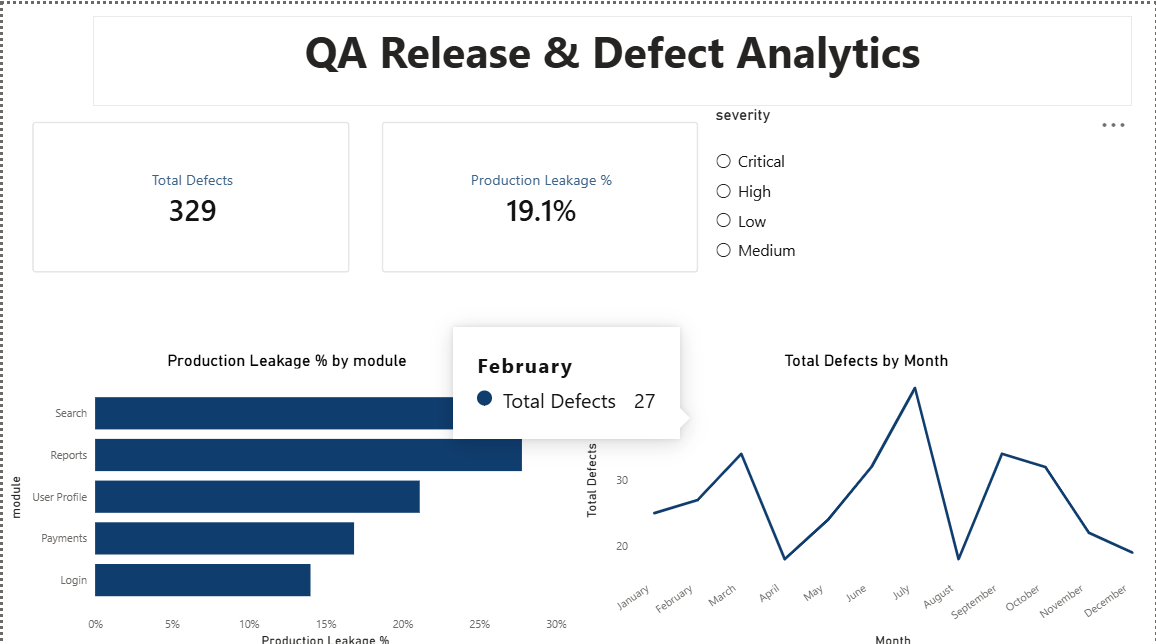

This screenshot's page, from the dashboard's own definition file:
{"tool":"powerbi","page":{"name":"Page 1","canvas":[1280,720],"ordinal":0},"visuals":[{"type":"clusteredBarChart","fields":{"Y":["defects.Production Leakage %"],"Category":["releases.module"]},"box":[0,385.5,631.2,334.5],"z":0},{"type":"cardVisual","fields":{"Data":["defects.Total Defects"]},"box":[15.1,113.4,387.4,202.2],"z":1000},{"type":"lineChart","fields":{"Category":["defects.date_reported.Variation.Date Hierarchy.Month"],"Y":["defects.Total Defects"]},"box":[640.6,385.5,638.7,334.5],"z":3000},{"type":"listSlicer","fields":{"Values":["defects.severity"]},"box":[787.4,112.9,491.5,202],"z":4000},{"type":"textbox","box":[100.2,13.2,1154.7,100.2],"z":5000},{"type":"cardVisual","fields":{"Data":["defects.Production Leakage %"]},"box":[404,112.9,386.5,202],"z":5001}]}

Visuals, with their boxes in screenshot pixels (x1, y1, x2, y2), scaled from the page's 1280x720 canvas onto the 1156x644 screenshot:
clusteredBarChart - defects.Production Leakage % x releases.module: 0:345:570:643
cardVisual - defects.Total Defects: 14:101:364:282
lineChart - defects.date_reported.Variation.Date Hierarchy.Month x defects.Total Defects: 579:345:1155:643
listSlicer - defects.severity: 711:101:1155:282
textbox: 90:12:1133:101
cardVisual - defects.Production Leakage %: 365:101:714:282
